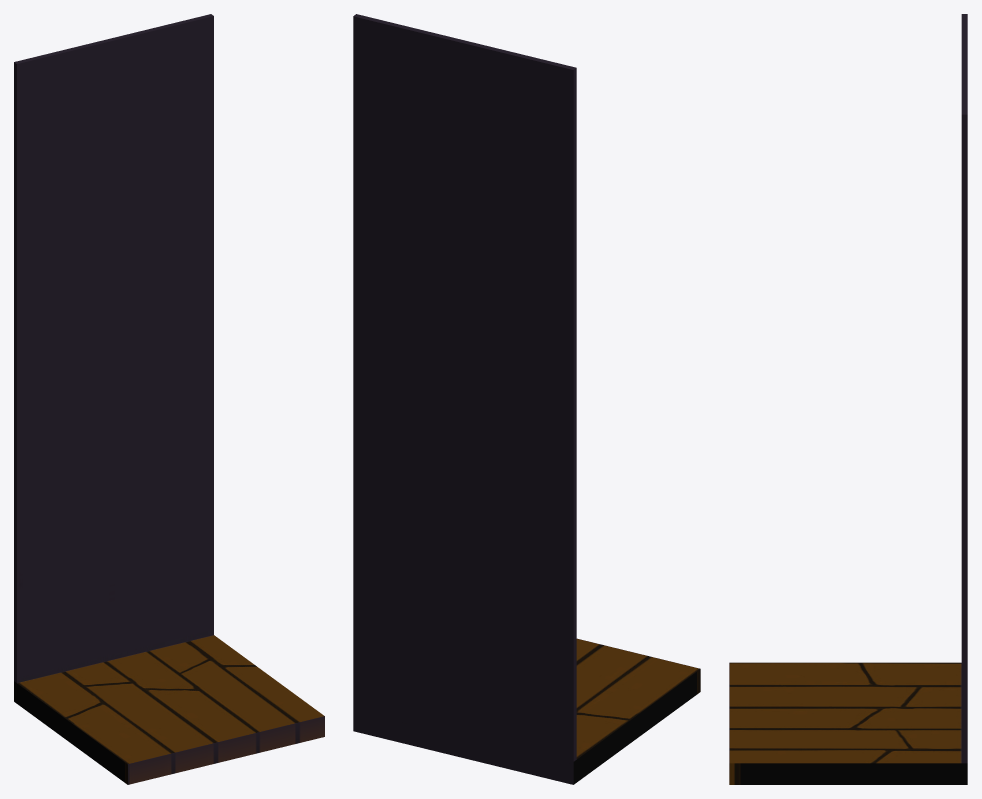
The model's file is Wall_Floorboard.fbx.
3 renders of one model, left to right at view 1: azimuth 30°, elevation 25°; view 2: azimuth 150°, elevation 25°; view 3: azimuth 270°, elevation 25°, orthographic. The views are drawn at different scales.
Visible parts, largest first — view 1: pCube1; view 2: pCube1; view 3: pCube1.
Part boxes in pixels (bbox=[...]): pCube1: bbox=[14, 14, 324, 784]; pCube1: bbox=[353, 14, 700, 784]; pCube1: bbox=[729, 14, 967, 784].
Bounding box in the file's own units: 1 × 3.1 × 1.
1 material, 1 textured.
